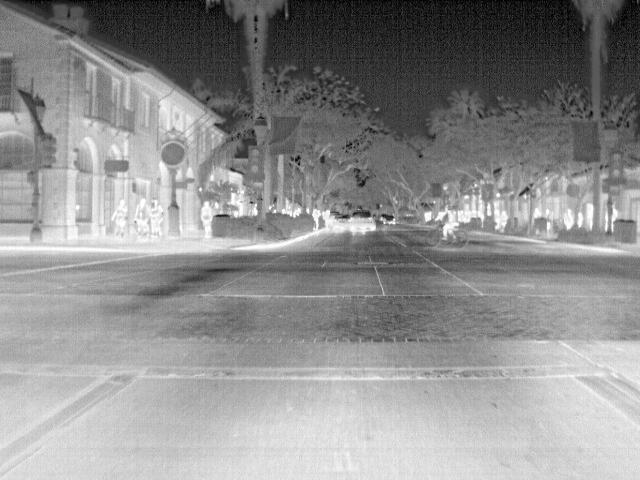car: (349, 209, 375, 234), (333, 214, 352, 230)
person: (132, 199, 152, 238), (111, 200, 130, 240), (440, 208, 461, 244), (147, 199, 165, 235), (202, 198, 215, 237), (309, 208, 322, 233), (562, 207, 576, 230), (499, 208, 512, 228), (531, 204, 545, 222)
